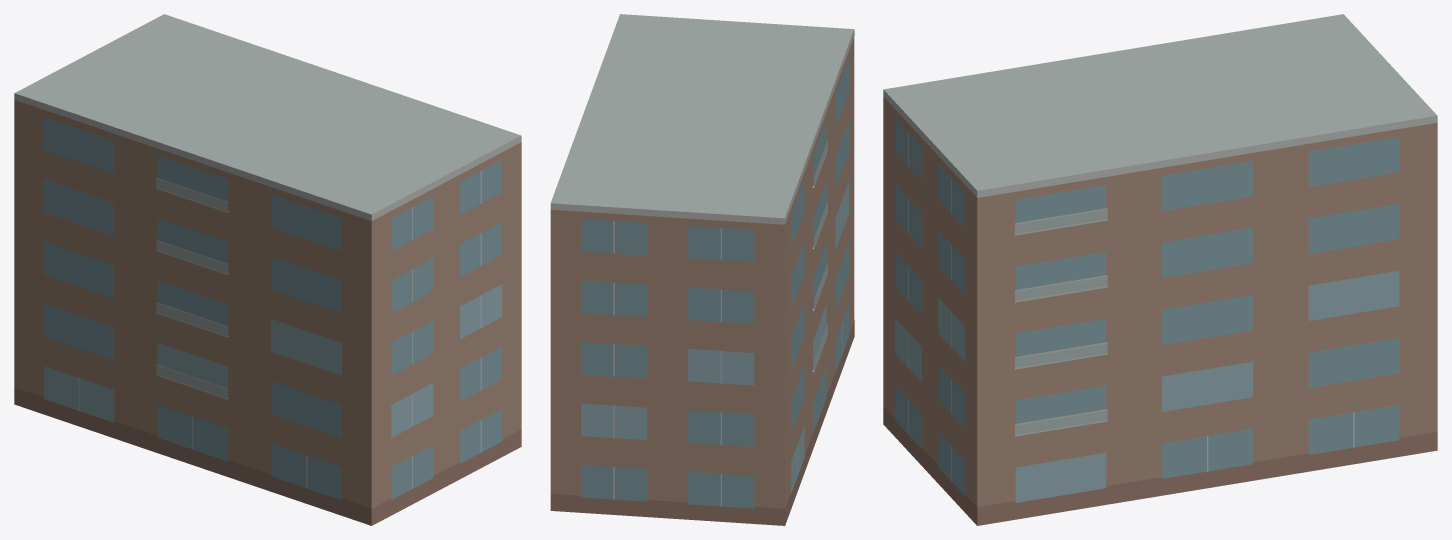
Rendered from survey-upis-32710932.glb.
3 views of the same model, side by side, from view 1: azimuth 30°, elevation 25°; view 2: azimuth 150°, elevation 25°; view 3: azimuth 270°, elevation 25° (orthographic). The views are drawn at different scales.
Visible parts, largest first — view 1: survey-upis-32710932.tmp; view 2: survey-upis-32710932.tmp; view 3: survey-upis-32710932.tmp.
Part boxes in pixels (left/top/right/bottom): survey-upis-32710932.tmp: left=14, top=14, right=521, bottom=525; survey-upis-32710932.tmp: left=550, top=14, right=854, bottom=525; survey-upis-32710932.tmp: left=883, top=14, right=1437, bottom=525.
Bounding box in the file's own units: 13.22 × 11.65 × 17.48.
